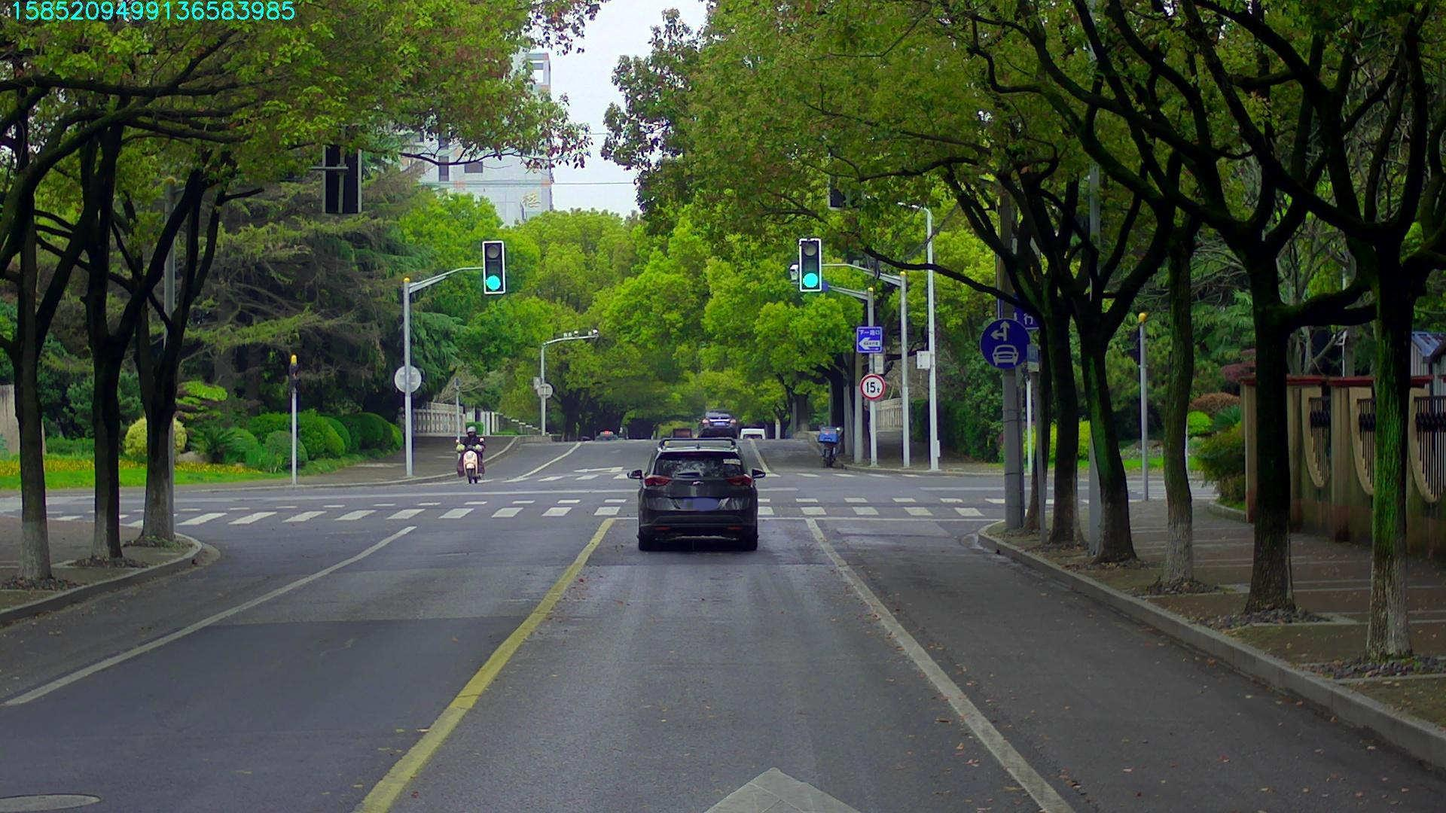green: (799, 239, 819, 290), (483, 242, 503, 292)
